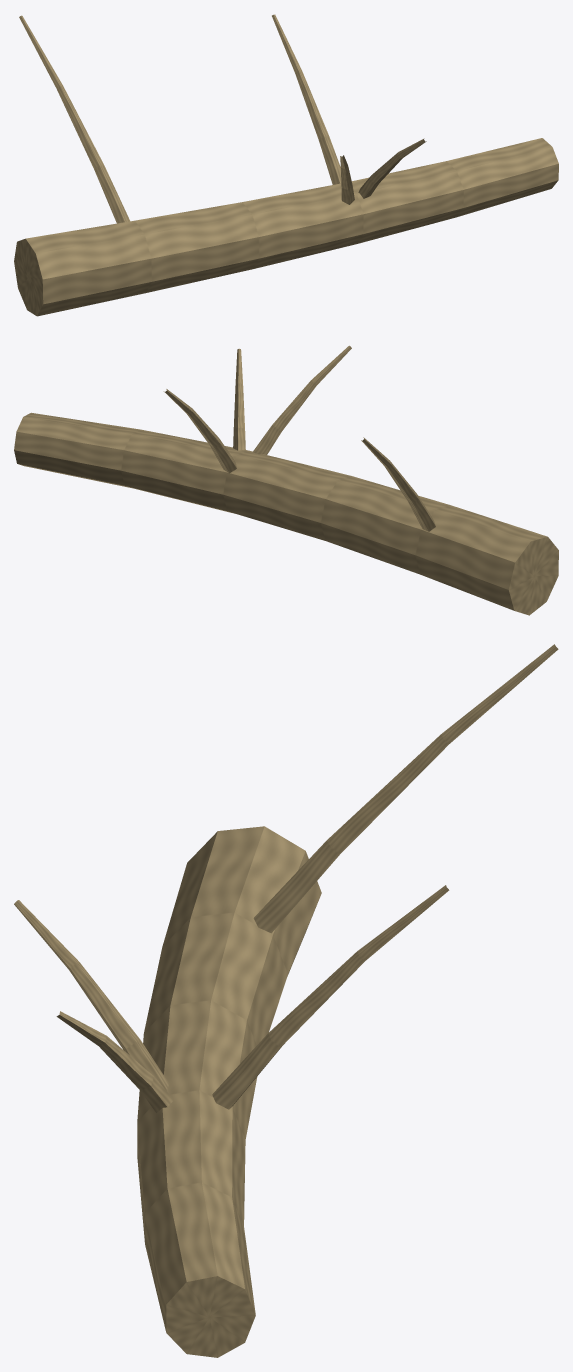
File: floating_log_study_swamp_and_mangrove_22649.glb
3 renders of one model, top to bottom at view 1: azimuth 30°, elevation 25°; view 2: azimuth 150°, elevation 25°; view 3: azimuth 270°, elevation 25°, orthographic. The views are drawn at different scales.
Visible parts, largest first — view 1: floating-log; view 2: floating-log; view 3: floating-log.
Boxes of the visible parts, x1,y1,x2,y2 form: floating-log: (14, 14, 558, 316); floating-log: (14, 345, 558, 615); floating-log: (14, 644, 558, 1357).
Size of the model in its own units: 2.64 by 1.06 by 1.4.
1 material, 1 textured.
